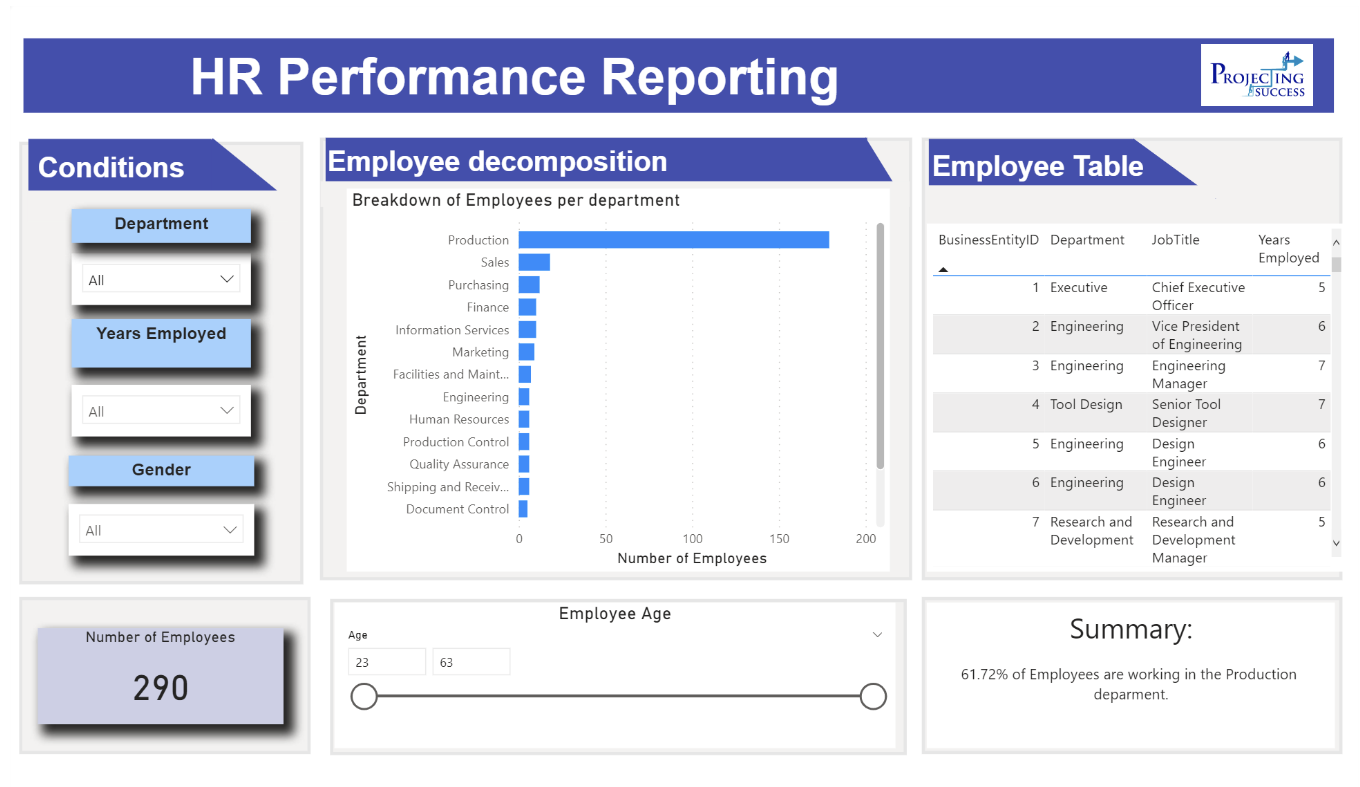

The dashboard page shown, as its layout file describes it:
{"tool":"powerbi","page":{"name":"Employees","canvas":[1280,720],"ordinal":0},"visuals":[{"type":"basicShape","box":[5.4,111.2,275.3,427.7],"z":0},{"type":"basicShape","box":[96,101.3,191.6,77.8],"z":1000},{"type":"basicShape","box":[15.3,112,177,56.4],"z":2000},{"type":"basicShape","box":[12.4,159.7,254.8,33.1],"z":3000},{"type":"slicer","fields":{"Values":["Current Employees.Department"]},"box":[58.1,221,170.2,48.6],"z":4000},{"type":"basicShape","box":[0,16.9,1267.8,71.9],"z":5000},{"type":"basicShape","box":[287.6,107.4,572.6,427.9],"z":6000},{"type":"textbox","box":[58.1,179.1,170.2,32.1],"z":7000},{"type":"textbox","box":[58.1,283.2,170.2,45.7],"z":8000},{"type":"slicer","fields":{"Values":["Current Employees.YearsEmployed"]},"box":[58.1,345.5,170.2,48.6],"z":9000},{"type":"basicShape","box":[762.6,101.2,97.7,78.1],"z":10000},{"type":"basicShape","box":[293.9,111,523.8,47.9],"z":11000},{"type":"basicShape","box":[286.8,150.9,572.6,28.4],"z":12000},{"type":"textbox","box":[55.2,412.6,176,29.2],"z":13000},{"type":"slicer","fields":{"Values":["Current Employees.Gender"]},"box":[55.2,458.3,176,48.6],"z":14000},{"type":"textbox","box":[165.3,21.4,1084.5,70],"z":15000},{"type":"basicShape","box":[860.5,107.1,406.9,428.3],"z":16000},{"type":"basicShape","box":[297.4,546.9,557.5,150.9],"z":17000},{"type":"textbox","box":[21.1,119.8,164.4,46.7],"z":18000},{"type":"image","box":[1115.6,17.5,133.3,69.1],"z":19000},{"type":"basicShape","box":[5.8,545.1,282.3,151.8],"z":20000},{"type":"textbox","box":[295.6,113.6,544.2,41.7],"z":21000},{"type":"card","title":"Number of Employees","fields":{"Values":["CountNonNull(Current Employees.BusinessEntityID)"]},"box":[26.3,576.2,232.6,90.5],"z":22000},{"type":"barChart","title":"Breakdown of Employees per department","fields":{"Category":["Current Employees.Department"],"Y":["CountNonNull(Current Employees.BusinessEntityID)"]},"box":[319.2,159.6,514.7,363.1],"z":23000},{"type":"basicShape","box":[860.5,545.1,406.9,151.8],"z":28000},{"type":"textbox","box":[869.2,551.9,387.4,138.2],"z":29000},{"type":"slicer","title":"Employee Age","fields":{"Values":["Current Employees.Age"]},"box":[307.6,551.9,532.4,138.2],"z":30000},{"type":"tableEx","fields":{"Values":["Current Employees.BusinessEntityID","Current Employees.Department","Current Employees.JobTitle","Sum(Current Employees.Years Employed)"]},"box":[869.2,192.7,398.1,330],"z":31000},{"type":"basicShape","box":[869.2,111.9,196.6,56.4],"z":31001,"group":"g1"},{"type":"basicShape","box":[958.9,101.2,212.8,77.8],"z":31002,"group":"g1"},{"type":"group","id":"g1","title":"Group 1","box":[869.2,101.2,302.7,77.9],"z":31003},{"type":"textbox","box":[869.2,118.8,224.9,46.7],"z":31004},{"type":"basicShape","box":[866.3,154.8,281.3,21.4],"z":31005}]}

Visuals, with their boxes in screenshot pixels (x1, y1, x2, y2), scaled from the page's 1280x720 canvas onto the 1360x787 screenshot:
basicShape: bbox(6, 122, 298, 589)
basicShape: bbox(102, 111, 306, 196)
basicShape: bbox(16, 122, 204, 184)
basicShape: bbox(13, 175, 284, 211)
slicer - Current Employees.Department: bbox(62, 242, 243, 295)
basicShape: bbox(0, 18, 1347, 97)
basicShape: bbox(306, 117, 914, 585)
textbox: bbox(62, 196, 243, 231)
textbox: bbox(62, 310, 243, 360)
slicer - Current Employees.YearsEmployed: bbox(62, 378, 243, 431)
basicShape: bbox(810, 111, 914, 196)
basicShape: bbox(312, 121, 869, 174)
basicShape: bbox(305, 165, 913, 196)
textbox: bbox(59, 451, 246, 483)
slicer - Current Employees.Gender: bbox(59, 501, 246, 554)
textbox: bbox(176, 23, 1328, 100)
basicShape: bbox(914, 117, 1347, 585)
basicShape: bbox(316, 598, 908, 763)
textbox: bbox(22, 131, 197, 182)
image: bbox(1185, 19, 1327, 95)
basicShape: bbox(6, 596, 306, 762)
textbox: bbox(314, 124, 892, 170)
"Number of Employees" card: bbox(28, 630, 275, 729)
"Breakdown of Employees per department" barChart: bbox(339, 174, 886, 571)
basicShape: bbox(914, 596, 1347, 762)
textbox: bbox(924, 603, 1335, 754)
"Employee Age" slicer: bbox(327, 603, 892, 754)
tableEx - Current Employees.BusinessEntityID x Current Employees.Department: bbox(924, 211, 1347, 571)
basicShape: bbox(924, 122, 1132, 184)
basicShape: bbox(1019, 111, 1245, 196)
"Group 1" group: bbox(924, 111, 1245, 196)
textbox: bbox(924, 130, 1162, 181)
basicShape: bbox(920, 169, 1219, 193)
